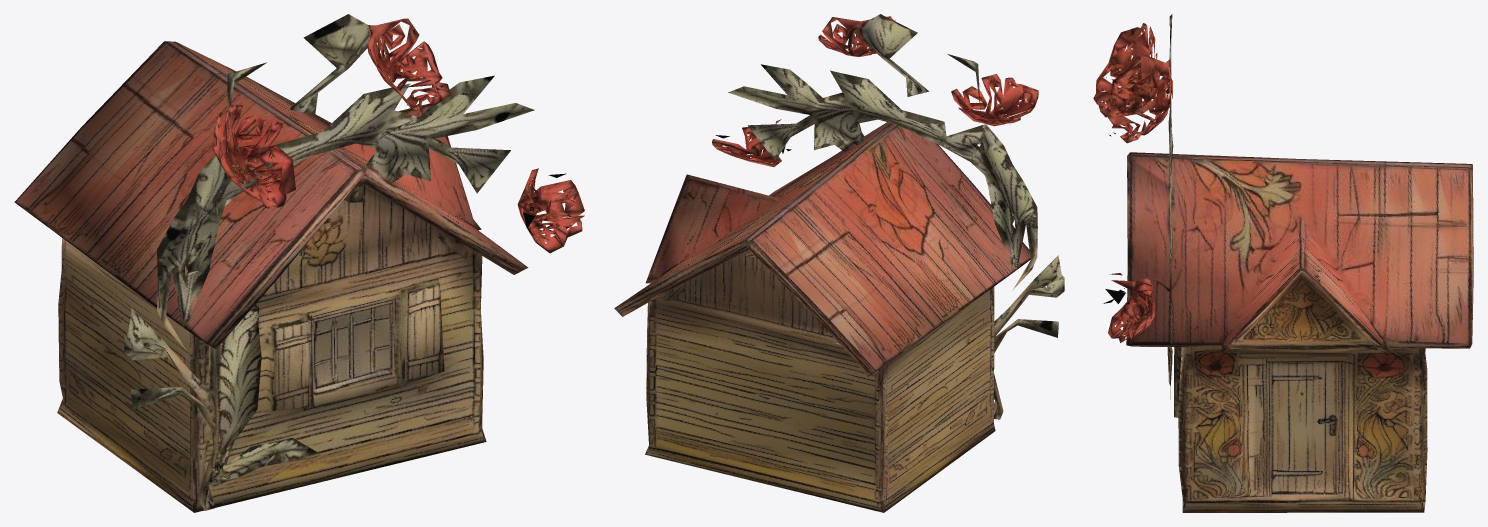
Rendered from demo_cottage.glb.
3 views of the same model, side by side, from view 1: azimuth 30°, elevation 25°; view 2: azimuth 150°, elevation 25°; view 3: azimuth 270°, elevation 25° (orthographic). The views are drawn at different scales.
Visible parts, largest first — view 1: tripo_node_b37ffcda-6871-4e96-8046-7fee56fd0ef4.001; view 2: tripo_node_b37ffcda-6871-4e96-8046-7fee56fd0ef4.001; view 3: tripo_node_b37ffcda-6871-4e96-8046-7fee56fd0ef4.001.
Boxes of the visible parts, x1,y1,x2,y2 form: tripo_node_b37ffcda-6871-4e96-8046-7fee56fd0ef4.001: [14, 14, 584, 512]; tripo_node_b37ffcda-6871-4e96-8046-7fee56fd0ef4.001: [614, 14, 1064, 512]; tripo_node_b37ffcda-6871-4e96-8046-7fee56fd0ef4.001: [1093, 14, 1473, 512].
Bounding box in the file's own units: 0.9835 × 0.9947 × 0.8311.
1 material, 1 textured.
